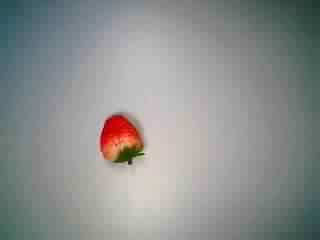strawberry: (94, 106, 156, 170)
